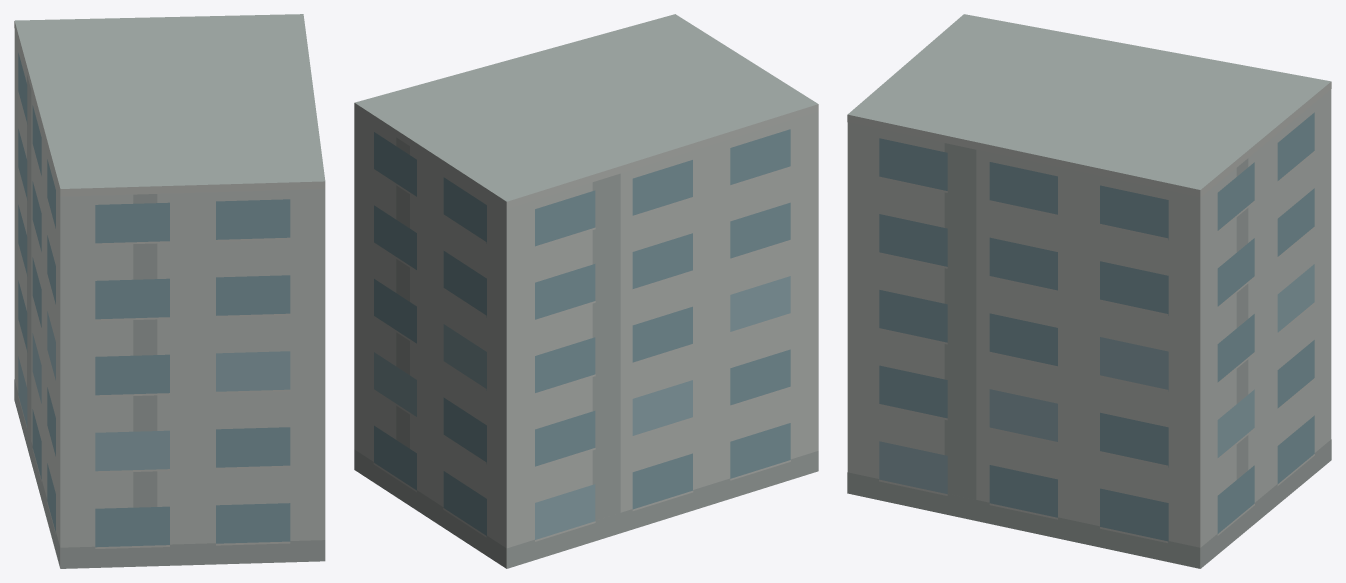
The model's file is survey-upis-32999811.glb.
3 renders of one model, left to right at view 1: azimuth 30°, elevation 25°; view 2: azimuth 150°, elevation 25°; view 3: azimuth 270°, elevation 25°, orthographic. The views are drawn at different scales.
Visible parts, largest first — view 1: survey-upis-32999811.tmp; view 2: survey-upis-32999811.tmp; view 3: survey-upis-32999811.tmp.
Part boxes in pixels (box(x1,y1,x2,y2)): survey-upis-32999811.tmp: box(14, 14, 325, 568); survey-upis-32999811.tmp: box(354, 14, 818, 568); survey-upis-32999811.tmp: box(847, 14, 1331, 568).
Bounding box in the file's own units: 12.07 × 12.1 × 14.02.
